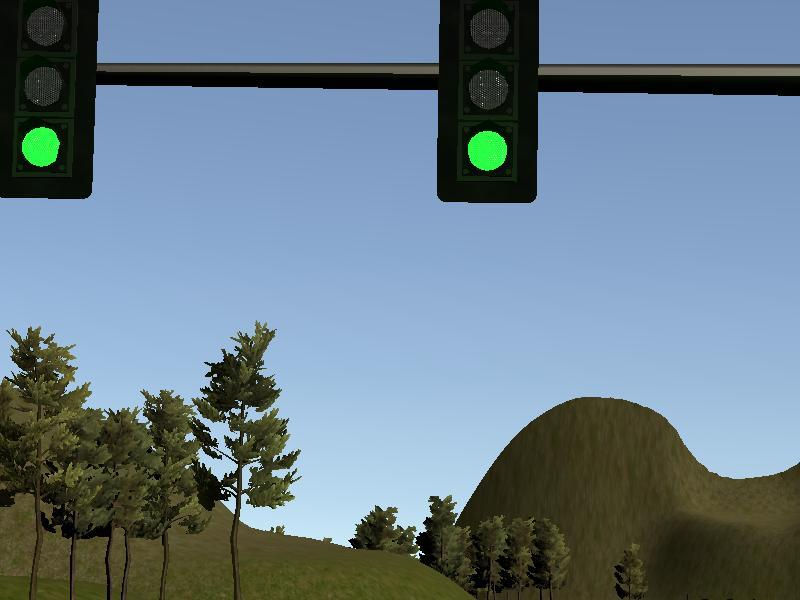Green: (437, 1, 539, 202), (1, 1, 92, 198)
